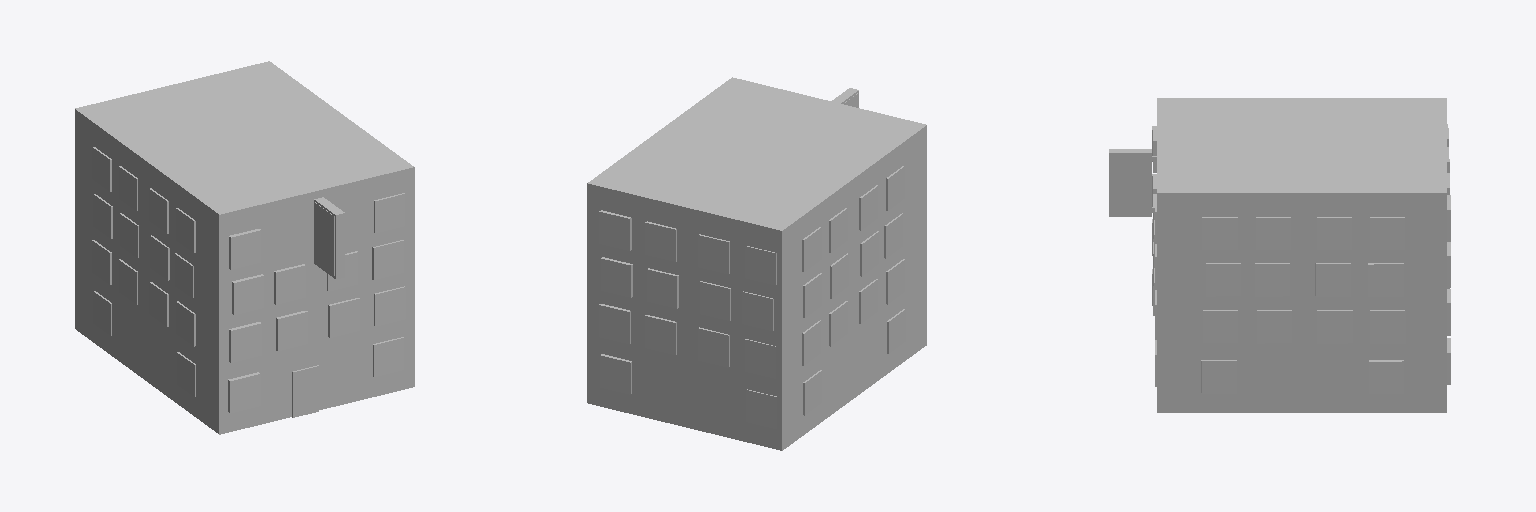
Rendered from The Apartments.obj.
3 views of the same model, side by side, from view 1: azimuth 30°, elevation 25°; view 2: azimuth 150°, elevation 25°; view 3: azimuth 270°, elevation 25° (orthographic).
Parts seen in each view (by area): view 1: pCube1, pCube65, Door, pCube67, pCube70; view 2: pCube1, pCube65; view 3: pCube1, pCube65, pCube67, pCube70.
Boxes of the visible parts, box(x1,y1,x2,y2) form: pCube1: box(75, 61, 414, 434); pCube65: box(92, 147, 405, 413); Door: box(292, 365, 318, 417); pCube67: box(315, 202, 334, 275); pCube70: box(314, 197, 344, 279); pCube1: box(587, 77, 926, 450); pCube65: box(599, 166, 905, 428); pCube1: box(1157, 98, 1446, 412); pCube65: box(1152, 124, 1450, 393); pCube67: box(1111, 155, 1149, 214); pCube70: box(1109, 149, 1151, 216).
Size of the model in its own units: 19.44 by 20.45 by 28.81.